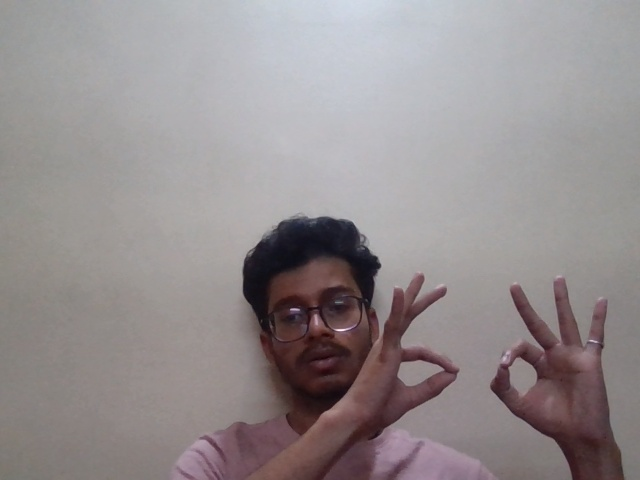nice: (351, 262, 630, 459)
